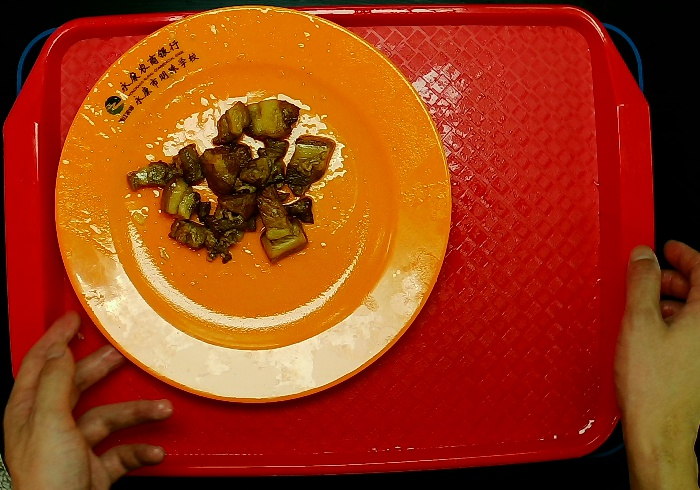YKMZ-Ju_Se_Mian_Pan: (52, 2, 456, 409)
